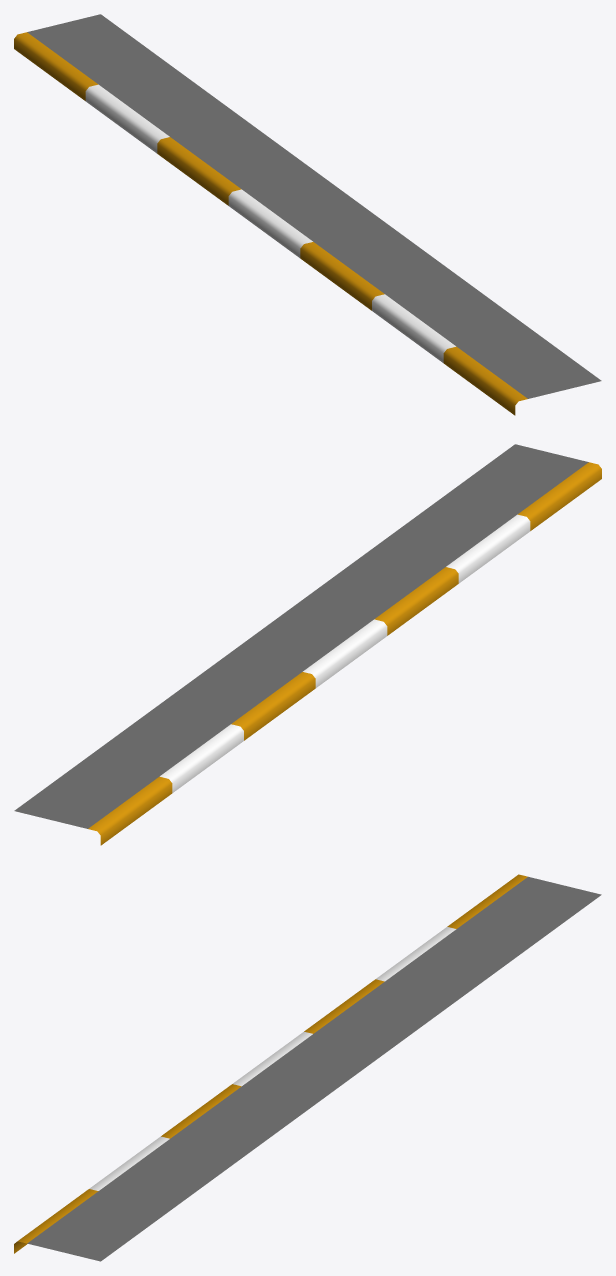
The model's file is Pavement.fbx.
The picture shows the model from 3 angles, top to bottom: view 1: azimuth 30°, elevation 25°; view 2: azimuth 150°, elevation 25°; view 3: azimuth 330°, elevation 25°; orthographic projection.
Parts seen in each view (by area): view 1: Pavement; view 2: Pavement; view 3: Pavement.
Part boxes in pixels (x1,y1,x2,y2): Pavement: (14,14,601,415); Pavement: (14,444,601,845); Pavement: (14,874,601,1261).
Size of the model in its own units: 50 by 7.5 by 500.
